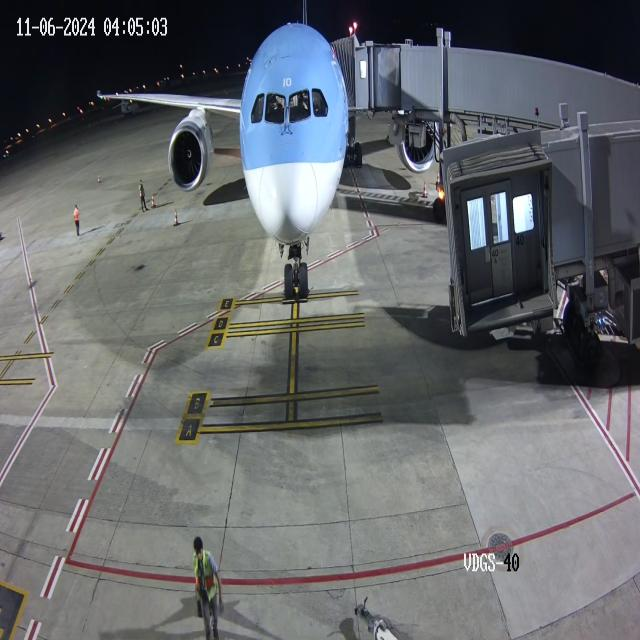bridge: (351, 14, 409, 124)
plane: (94, 12, 348, 300)
window: (239, 79, 335, 132)
